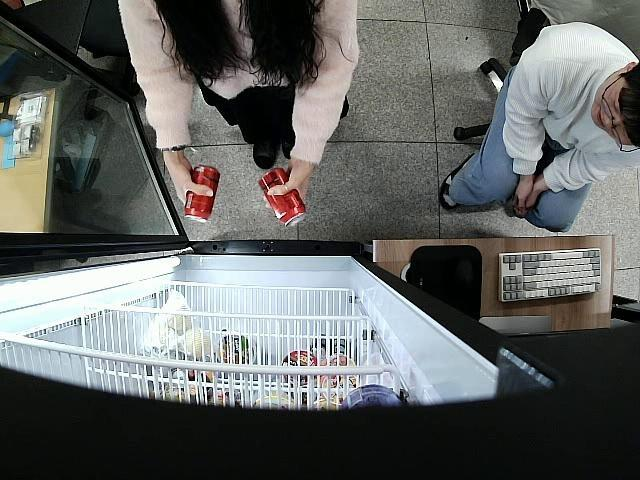11_cocaColaZero: (259, 168, 306, 228), (184, 166, 222, 223)
